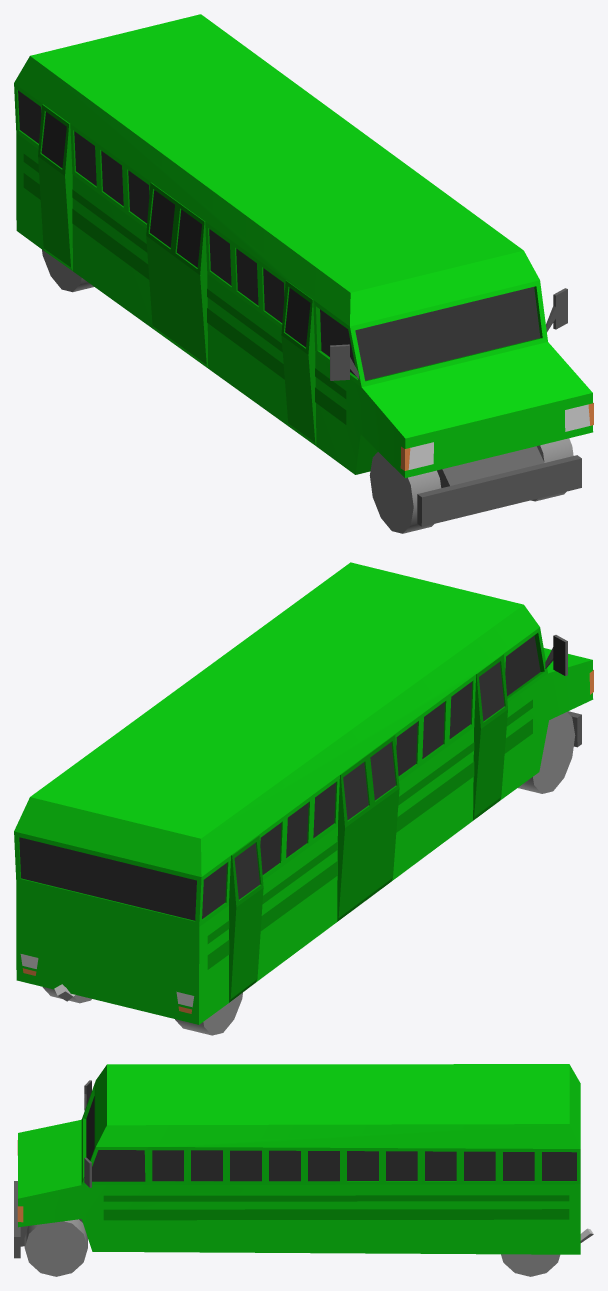
Rendered from bus_02.fbx.
3 renders of one model, top to bottom at view 1: azimuth 30°, elevation 25°; view 2: azimuth 150°, elevation 25°; view 3: azimuth 270°, elevation 25°, orthographic. The views are drawn at different scales.
Visible parts, largest first — view 1: bus_02; view 2: bus_02; view 3: bus_02.
Part boxes in pixels (x1,y1,x2,y2): bus_02: (14,14,593,533); bus_02: (14,562,593,1035); bus_02: (14,1064,593,1276).
Size of the model in its own units: 2.77 by 2.39 by 8.14.
